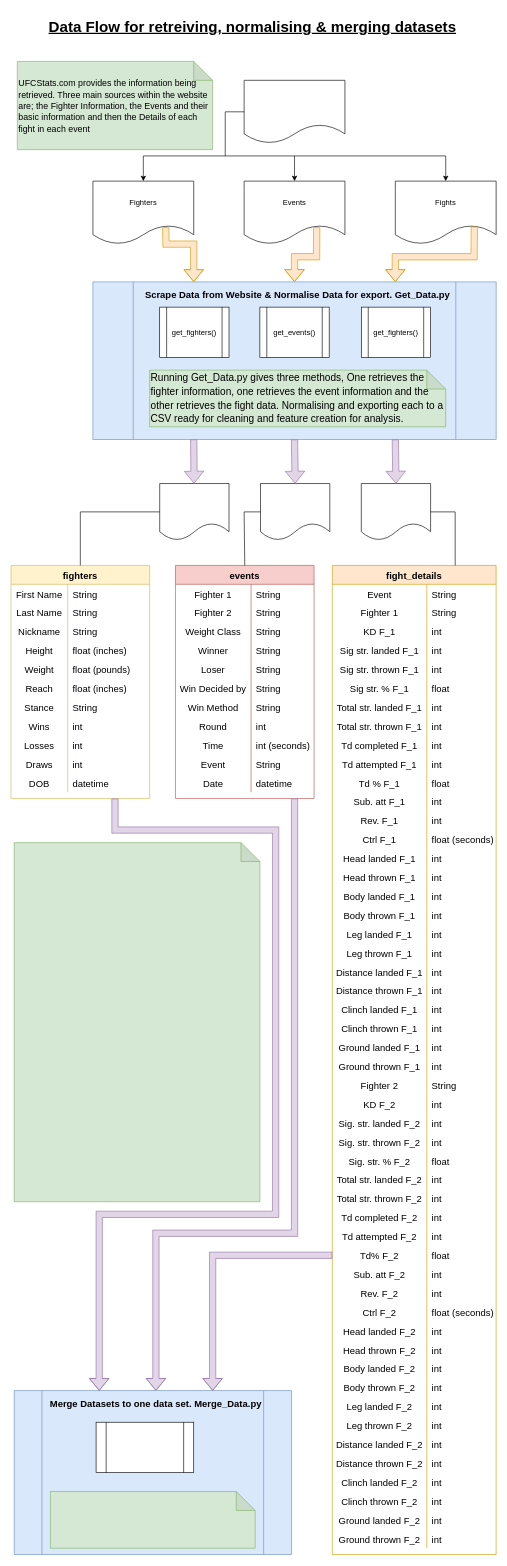
Image size: 507x1566. Some labels were removed from this diagram. The shapes that lost their labels are listed below. From the top down, each one's centre as x and y in pixels, then its label:
At (x=294, y=111): "UFCStats.com".
At (x=194, y=511): "fighters.csv".
At (x=295, y=511): "events.csv".
At (x=396, y=511): "fight_details.csv".
At (x=144, y=1447): "merge_datasets()".
